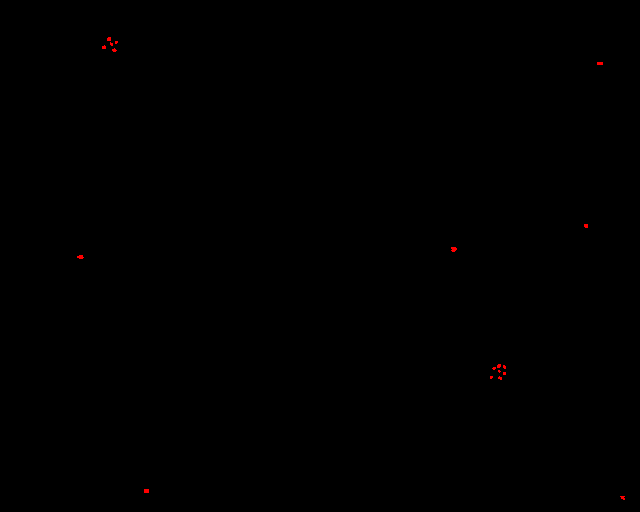Target: (451, 247, 457, 252), (77, 255, 84, 259), (112, 48, 117, 52), (144, 489, 149, 493), (620, 496, 625, 500), (597, 62, 603, 65), (107, 37, 111, 41), (102, 45, 106, 49), (584, 224, 588, 228), (497, 364, 501, 368), (498, 376, 502, 380), (110, 42, 113, 46), (503, 365, 506, 369), (492, 367, 496, 370), (115, 41, 118, 44), (498, 370, 501, 373), (503, 372, 506, 375), (490, 376, 493, 379)
